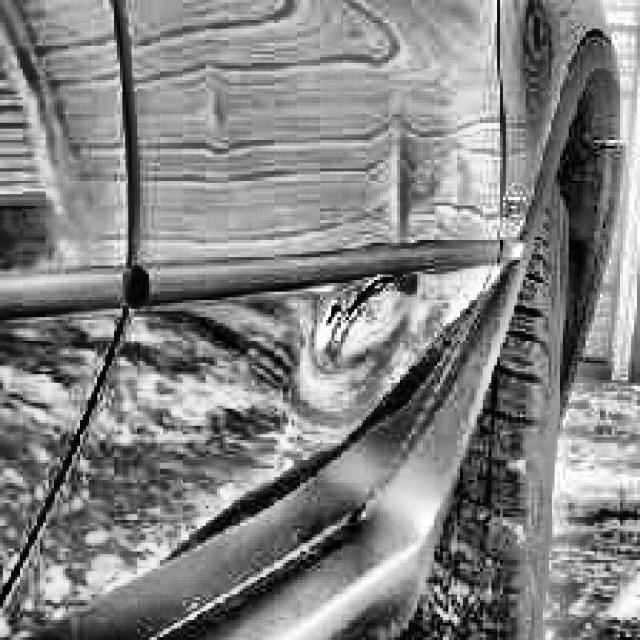door_dent: (274, 276, 431, 407)
